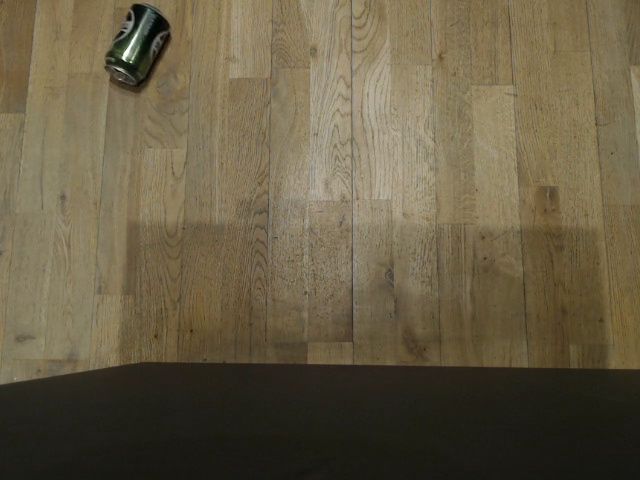beer: (101, 2, 173, 90)
